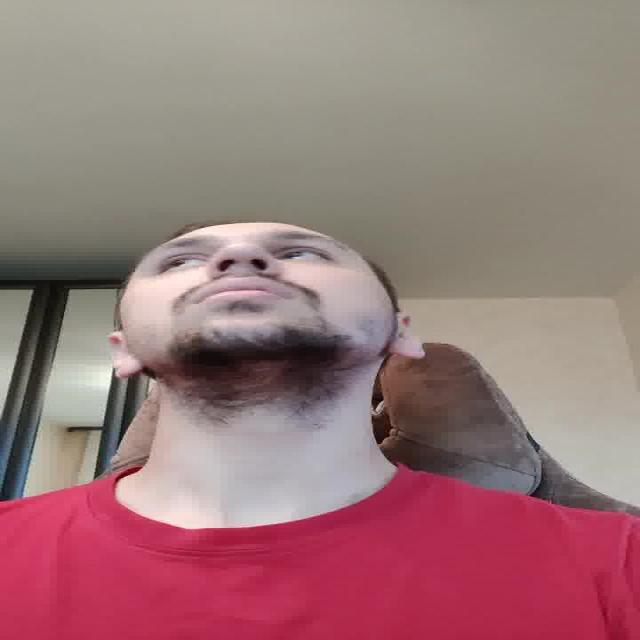earlobe: (386, 310, 430, 360), (106, 329, 146, 377)
